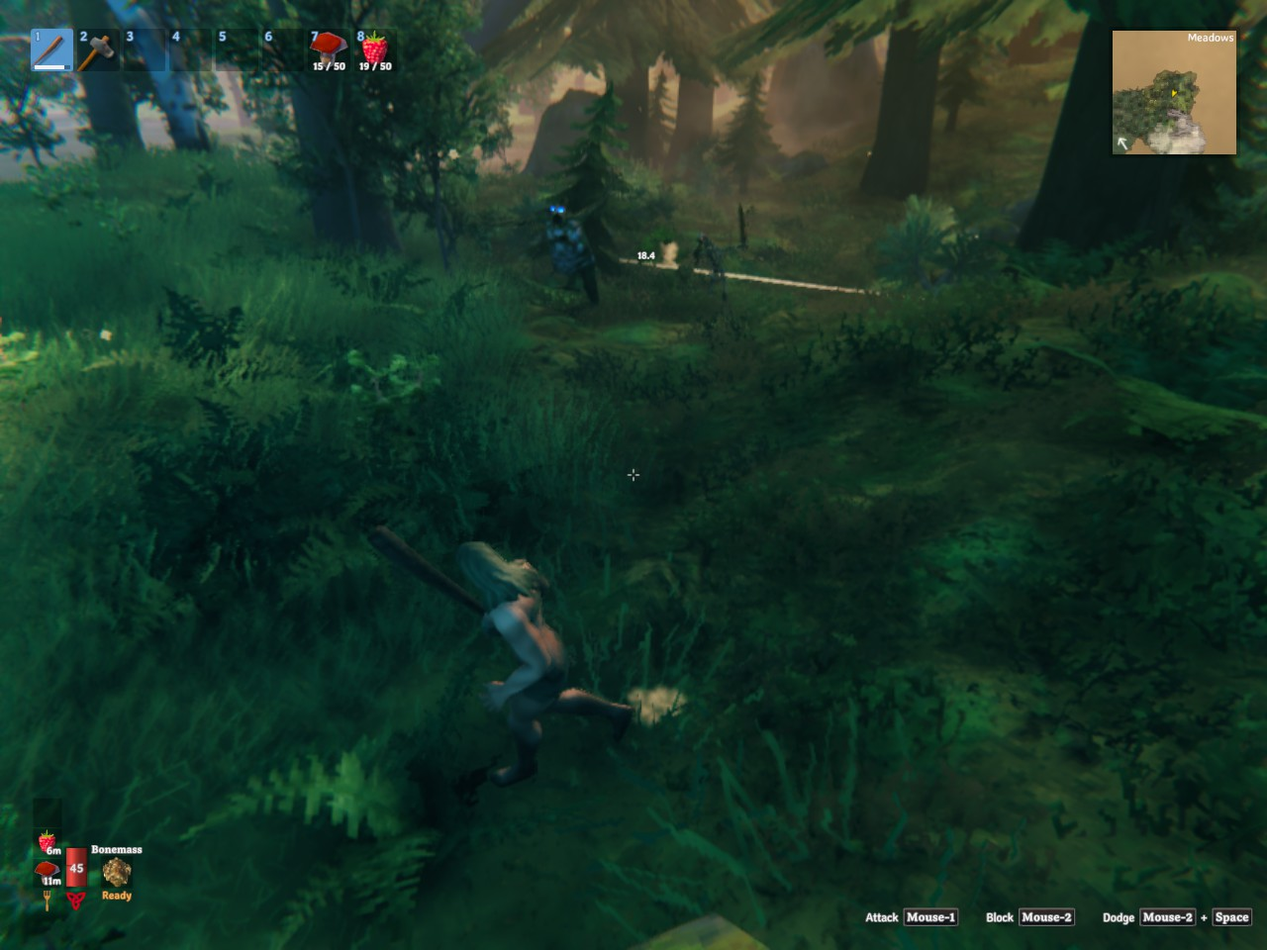Greydwarf: (545, 205, 596, 302)
